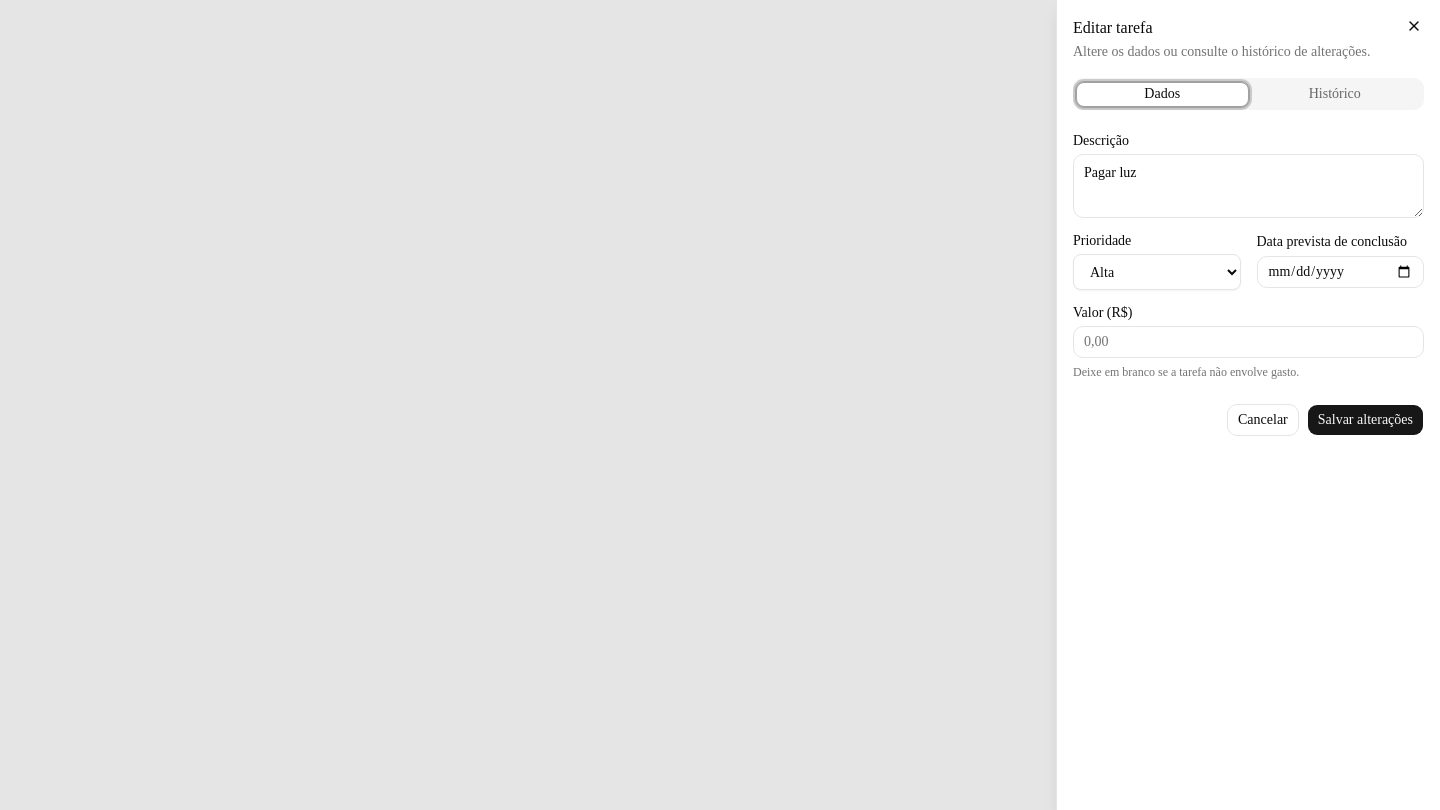
Test: DrawerTarefa › em edição deve mostrar as abas e carregar o histórico da tarefa
expect the heading "Editar tarefa" is shown: met, box [1073,19,1152,36]
Click the tab "Histórico". click: (1335,94)
box: [1248,82,1421,106]
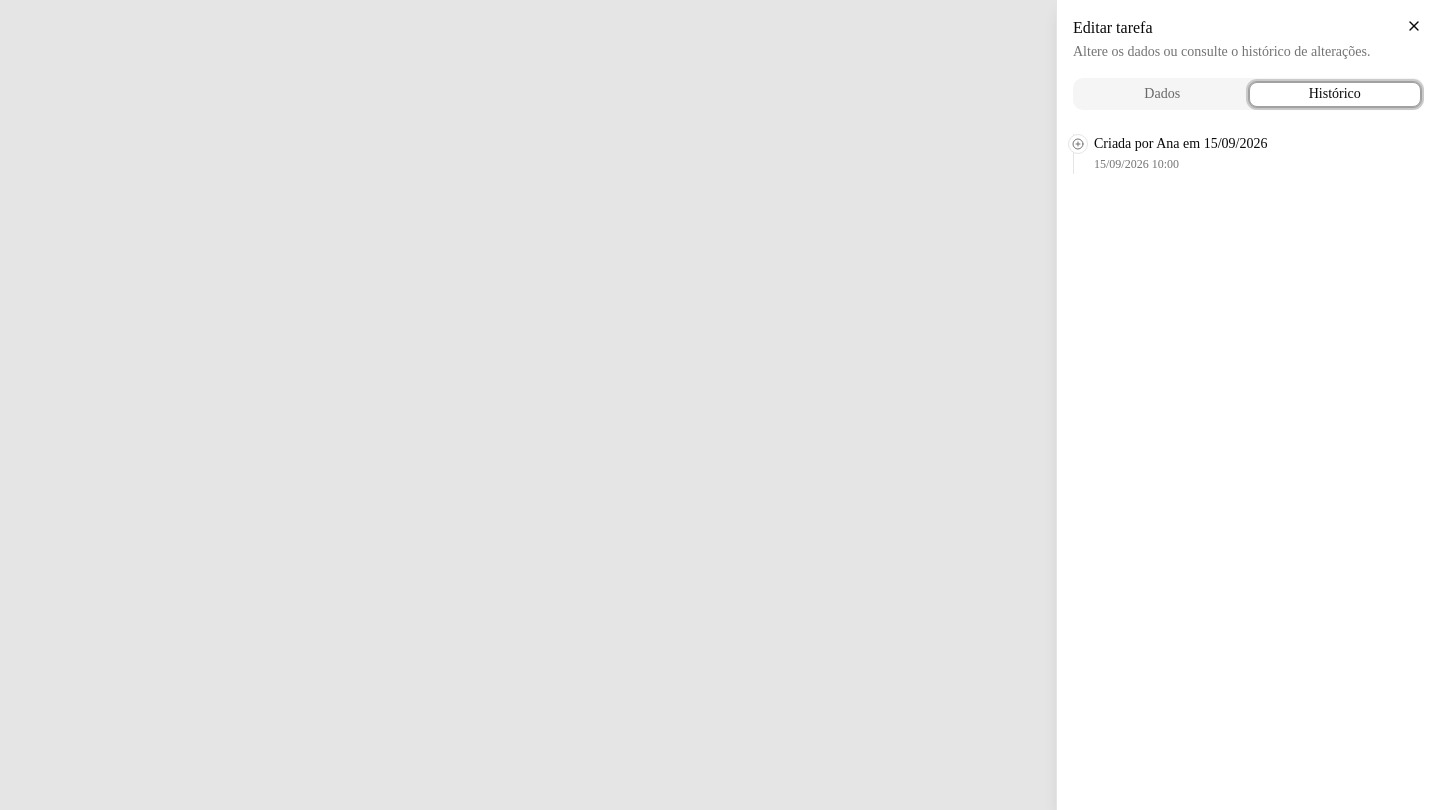
expect the text "Criada por Ana em 15/09/2026" is shown: met, box [1094,136,1267,151]
